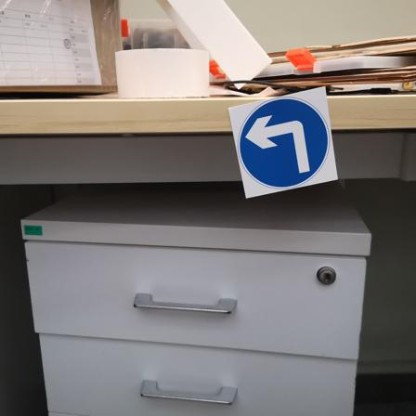left: (227, 100, 350, 189)
